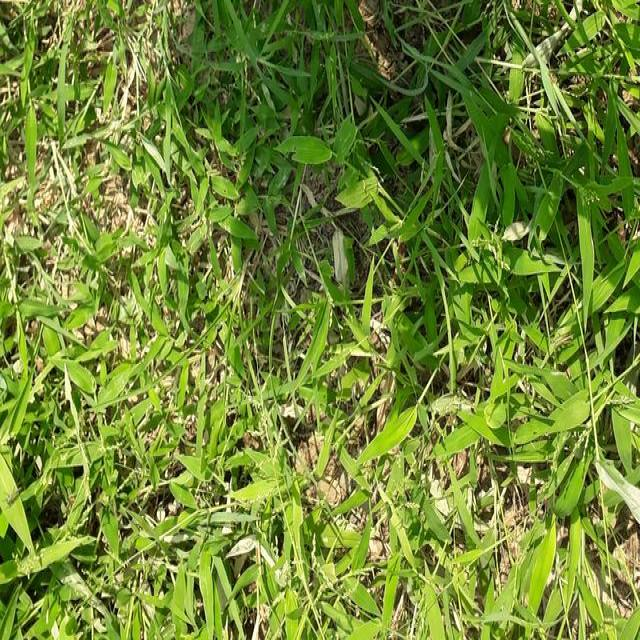weed: (122, 0, 640, 378), (189, 457, 640, 639), (3, 279, 175, 640)
